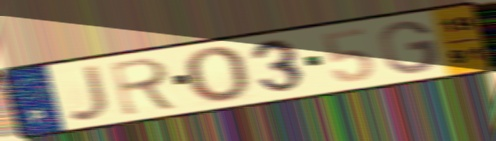3: (249, 36, 312, 96)
5: (318, 26, 376, 84)
G: (377, 19, 440, 76)
J: (65, 62, 112, 123)
O: (180, 45, 252, 105)
R: (108, 55, 182, 119)
